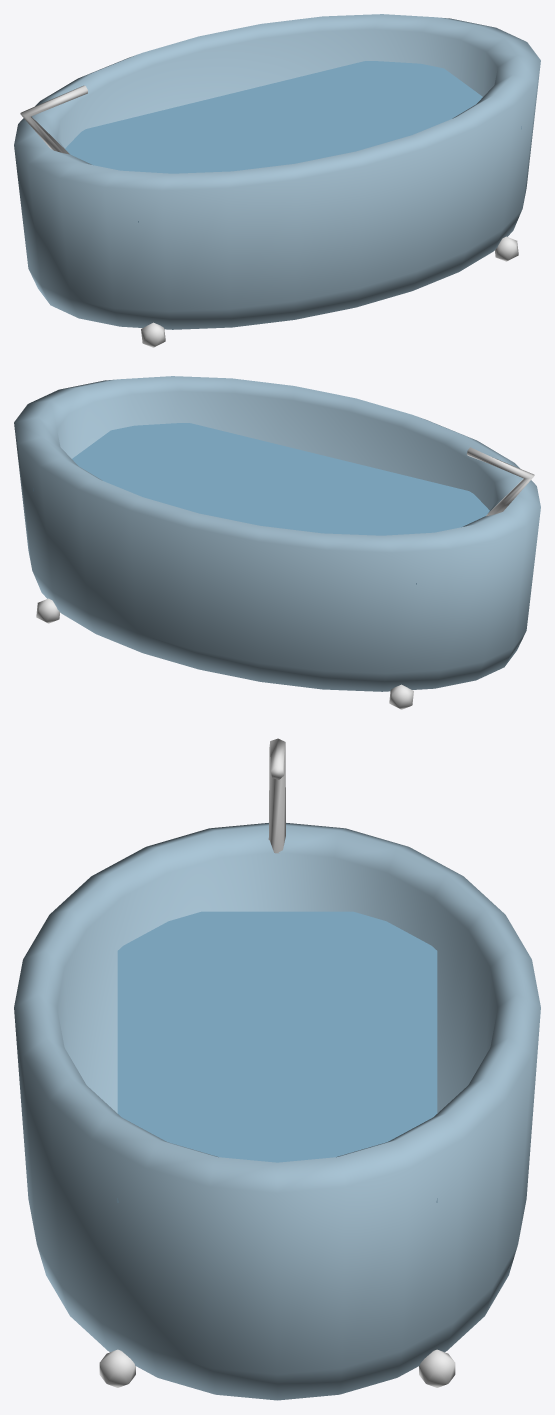
The model's file is glass_bathtub_v0.glb.
3 renders of one model, top to bottom at view 1: azimuth 30°, elevation 25°; view 2: azimuth 150°, elevation 25°; view 3: azimuth 270°, elevation 25°, orthographic. The views are drawn at different scales.
Visible parts, largest first — view 1: glass_bathtub_v0; view 2: glass_bathtub_v0; view 3: glass_bathtub_v0.
Part boxes in pixels (x1,y1,x2,y2): glass_bathtub_v0: (14,14,540,347); glass_bathtub_v0: (14,376,540,709); glass_bathtub_v0: (14,738,540,1400).
Size of the model in its own units: 2.51 by 1.08 by 1.49.
